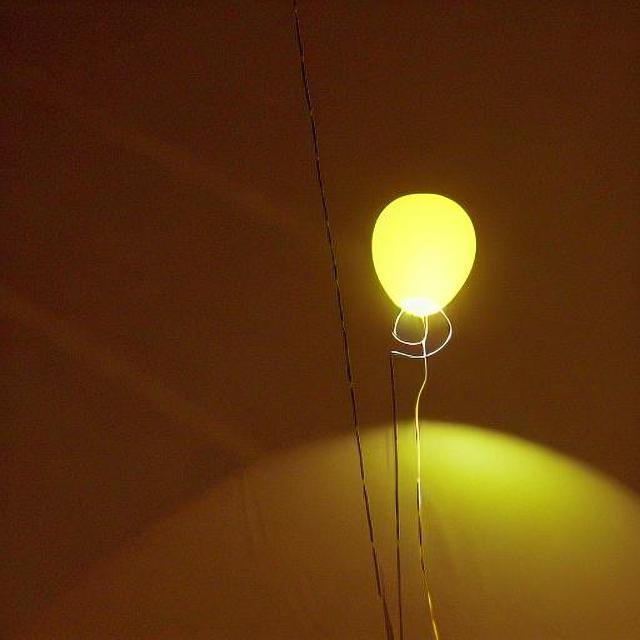balloon: (366, 186, 475, 328)
